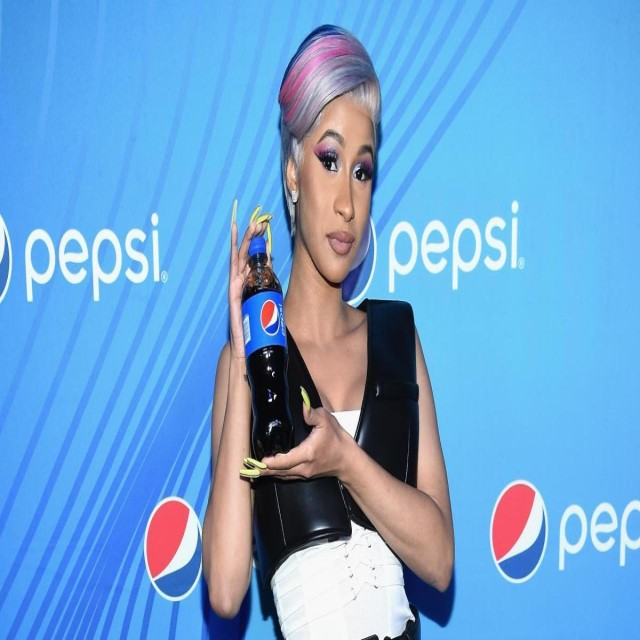pepsi: (143, 497, 205, 604), (490, 478, 551, 584), (261, 295, 282, 340)
